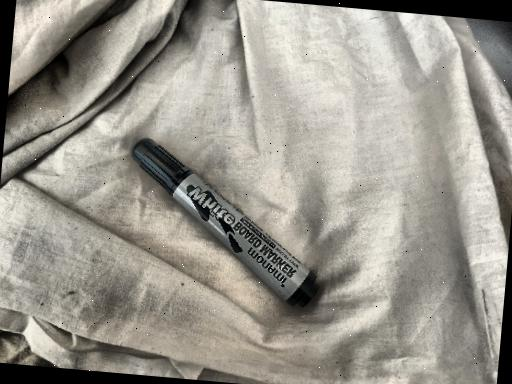marcador negro: (131, 138, 319, 307)
